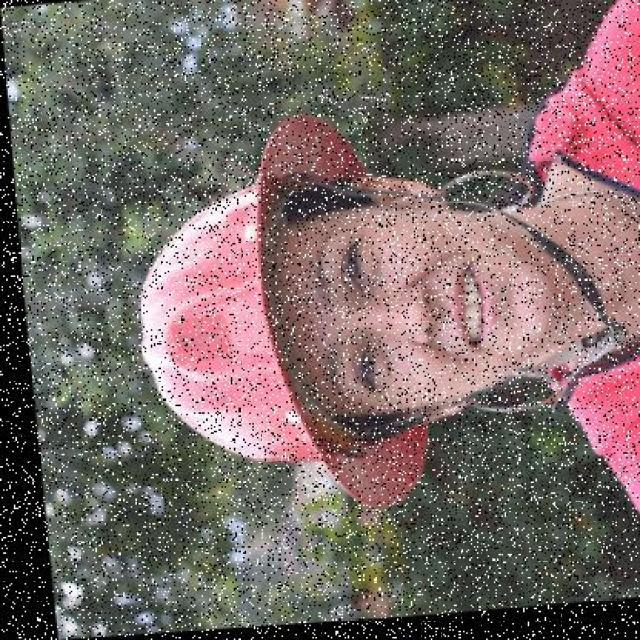helmet: (116, 93, 408, 533)
